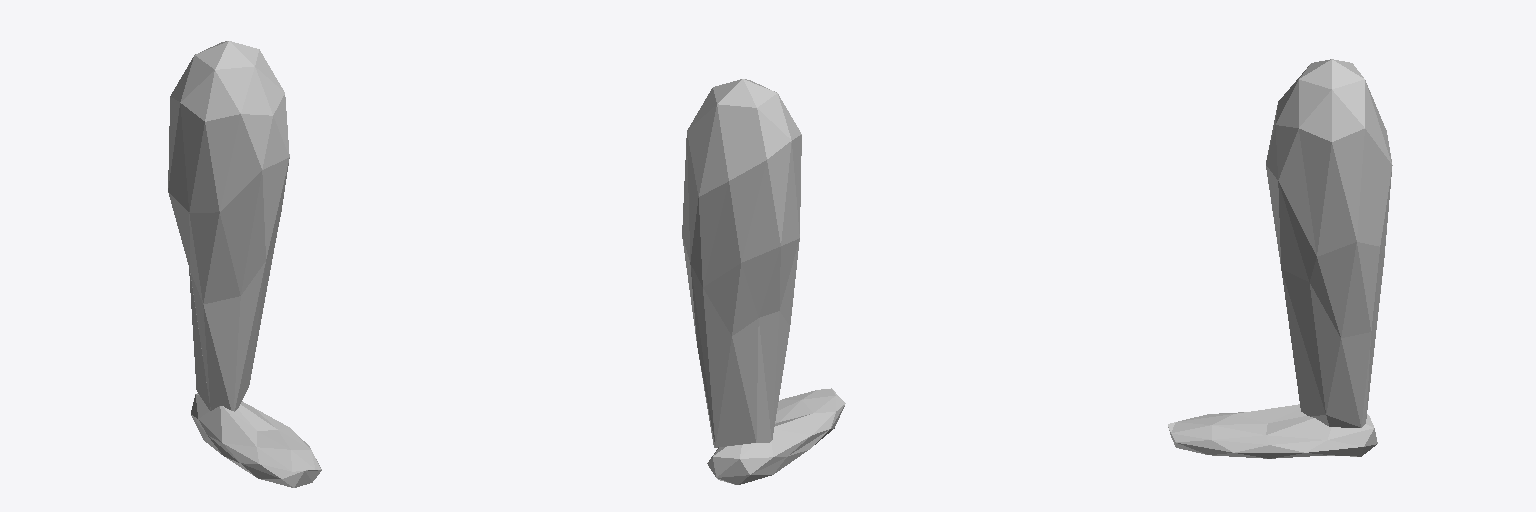
Rendered from calf.obj.
3 renders of one model, left to right at view 1: azimuth 30°, elevation 25°; view 2: azimuth 150°, elevation 25°; view 3: azimuth 270°, elevation 25°, orthographic.
Visible parts, largest first — view 1: Esfera_icosaédrica.010_Esfera_icosaédrica.013, Esfera_icosaédrica.011_Esfera_icosaédrica.014; view 2: Esfera_icosaédrica.010_Esfera_icosaédrica.013, Esfera_icosaédrica.011_Esfera_icosaédrica.014; view 3: Esfera_icosaédrica.010_Esfera_icosaédrica.013, Esfera_icosaédrica.011_Esfera_icosaédrica.014.
Boxes of the visible parts, x1=… form: Esfera_icosaédrica.010_Esfera_icosaédrica.013: x1=168, y1=41, x2=289, y2=411; Esfera_icosaédrica.011_Esfera_icosaédrica.014: x1=191, y1=393, x2=321, y2=487; Esfera_icosaédrica.010_Esfera_icosaédrica.013: x1=682, y1=79, x2=801, y2=447; Esfera_icosaédrica.011_Esfera_icosaédrica.014: x1=707, y1=388, x2=845, y2=484; Esfera_icosaédrica.010_Esfera_icosaédrica.013: x1=1266, y1=59, x2=1392, y2=427; Esfera_icosaédrica.011_Esfera_icosaédrica.014: x1=1168, y1=404, x2=1377, y2=458.
Bounding box in the file's own units: 0.7032 × 2.61 × 1.36.